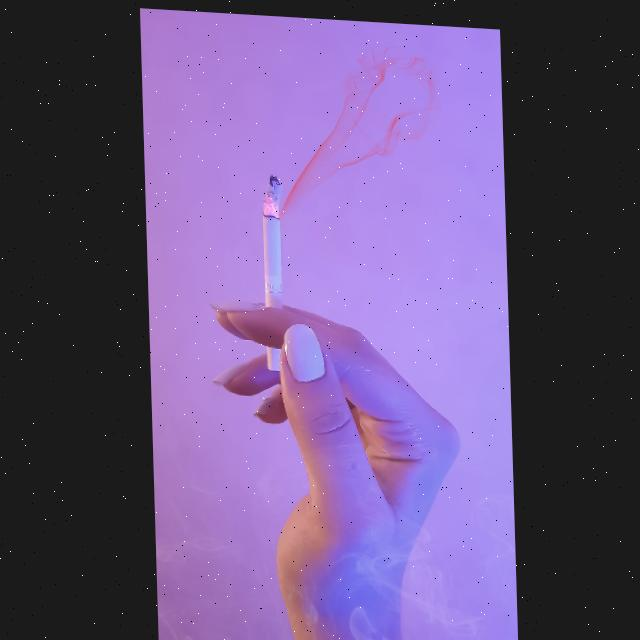cigarette: (261, 170, 283, 368)
